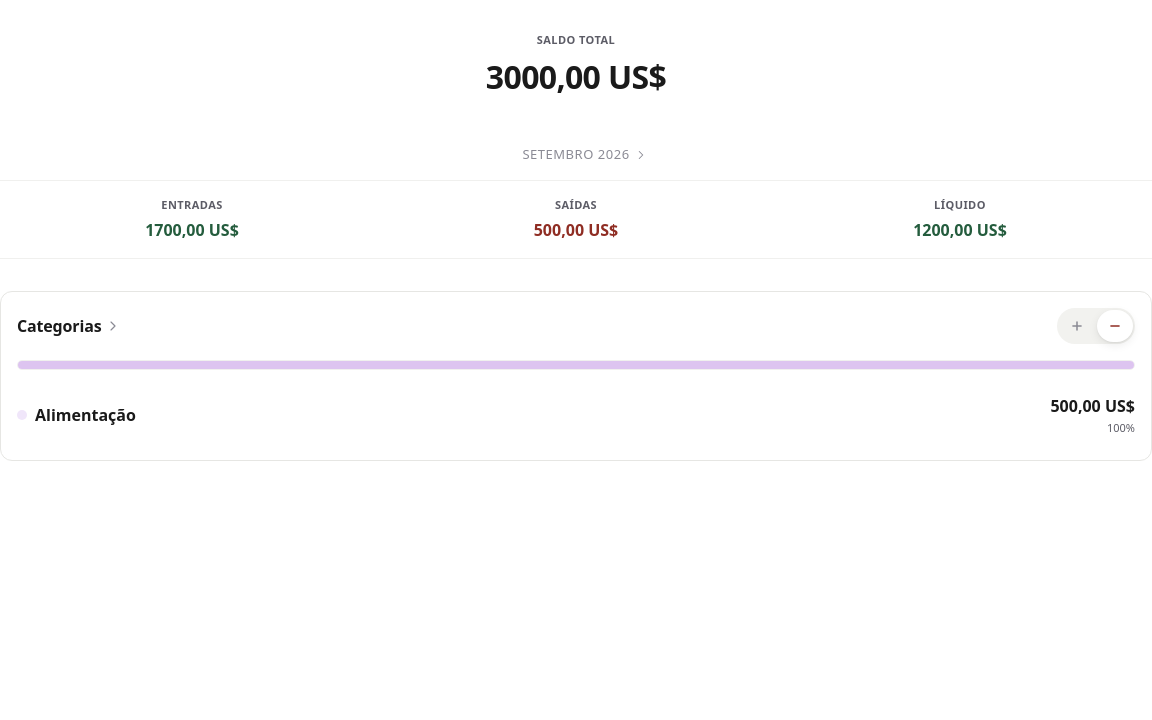
Início › cartão de categorias — alternador "+/−" › clicar em "Entradas" troca a lista de categorias mostrada
Check: the text "Alimentação" is shown, box [35,404,136,426]
Click the button named "Entradas" at (1077,326), box [1059,310,1095,342]
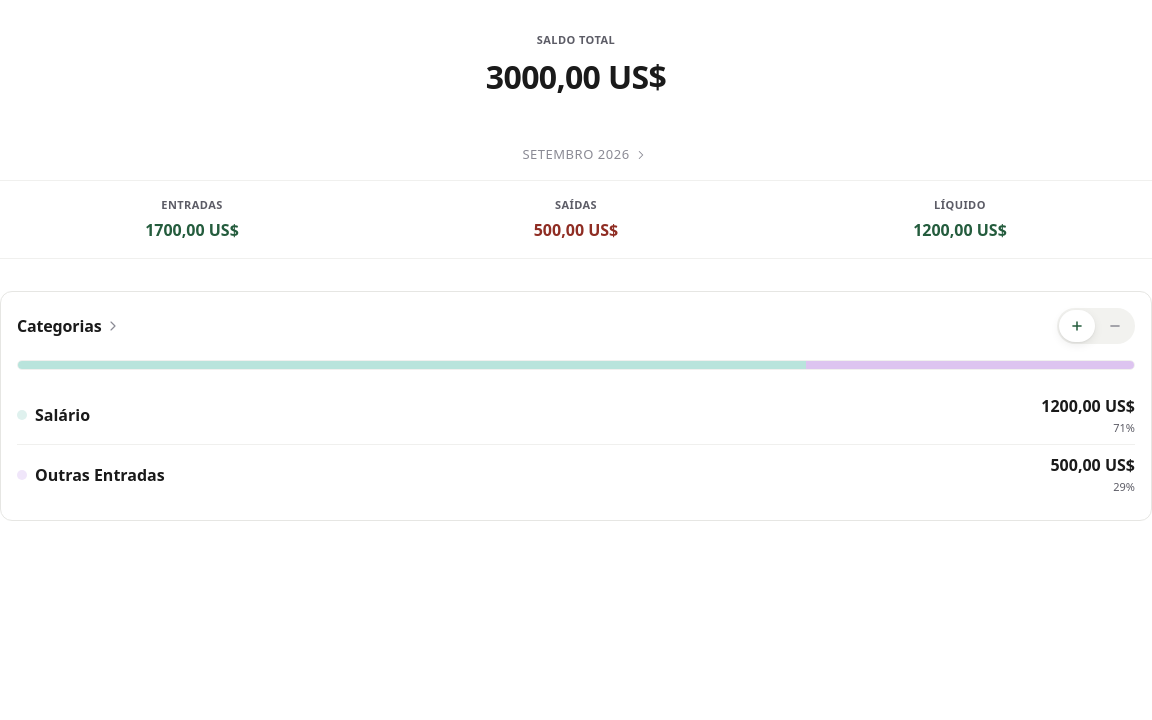
Check: the text "Salário" is shown, box [35,404,90,426]
Check: the text "Outras Entradas" is shown, box [35,464,165,486]
Check: the text "Alimentação" is gone
